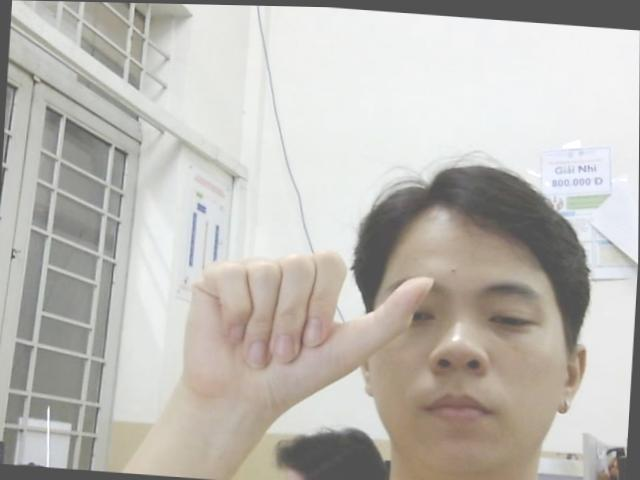A: (182, 232, 438, 410)
